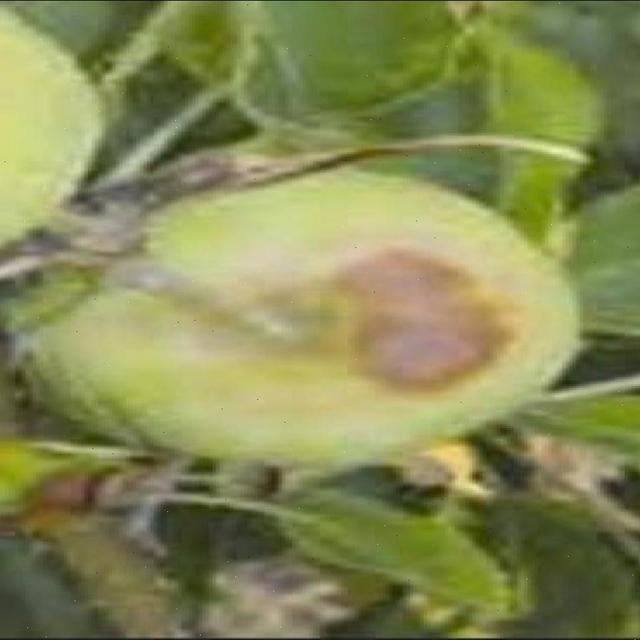Sunscald Fruit: (187, 154, 348, 270)
